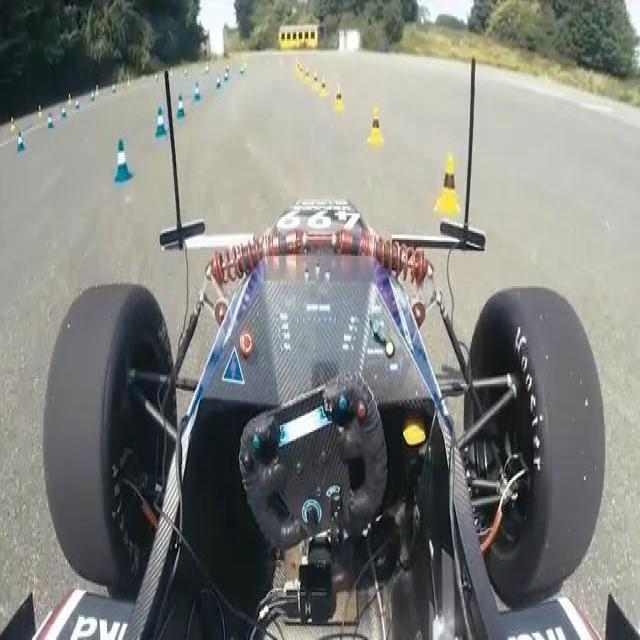blue_cone: (101, 132, 143, 182), (152, 103, 173, 137)
yellow_cone: (432, 149, 481, 241), (361, 106, 385, 148), (324, 83, 350, 113)
